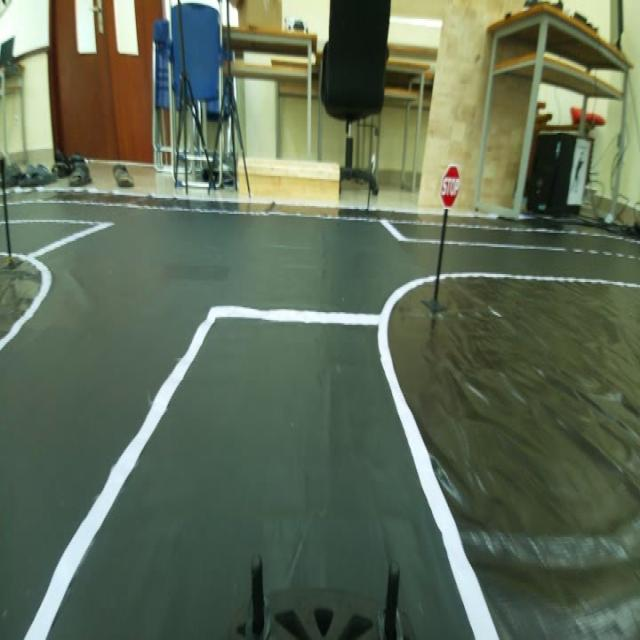stop: (437, 158, 463, 218)
